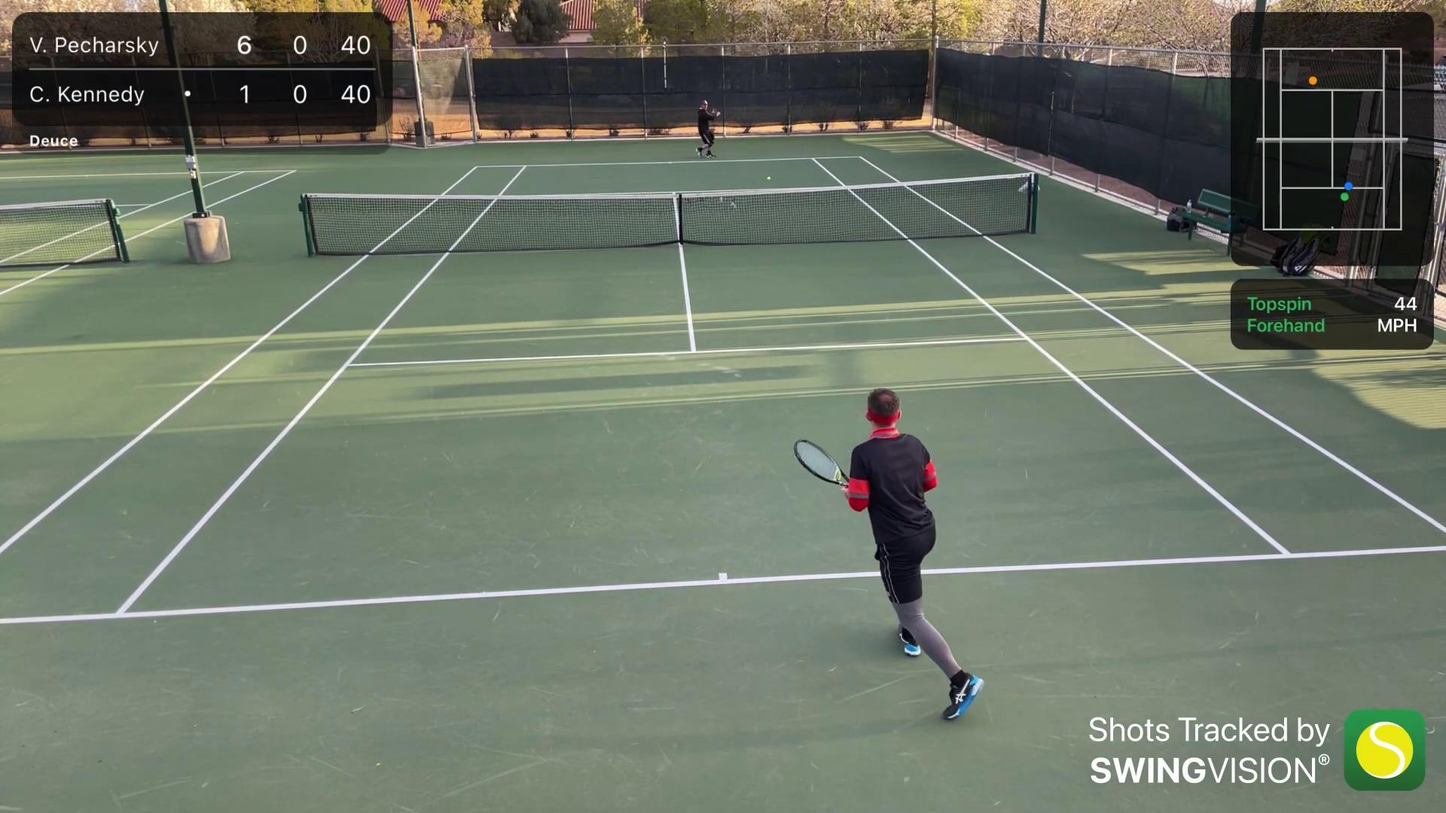ball: (766, 175, 772, 182)
